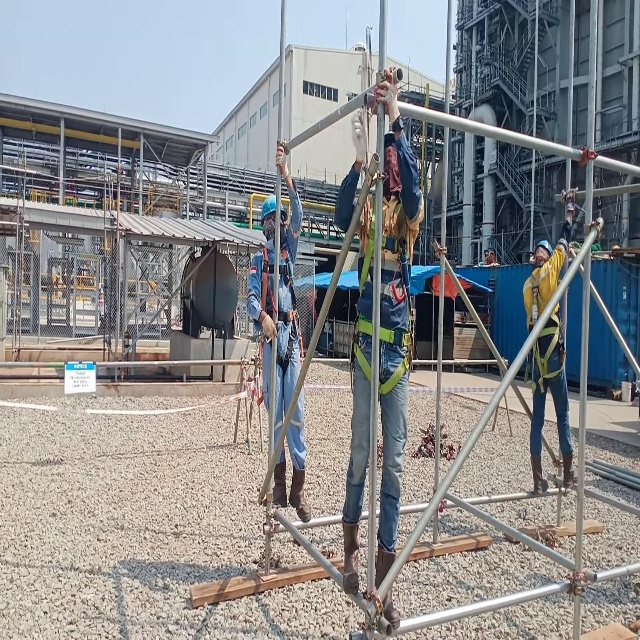Arnes_seguridad: (355, 176, 415, 389), (526, 259, 568, 398), (256, 246, 302, 367)
